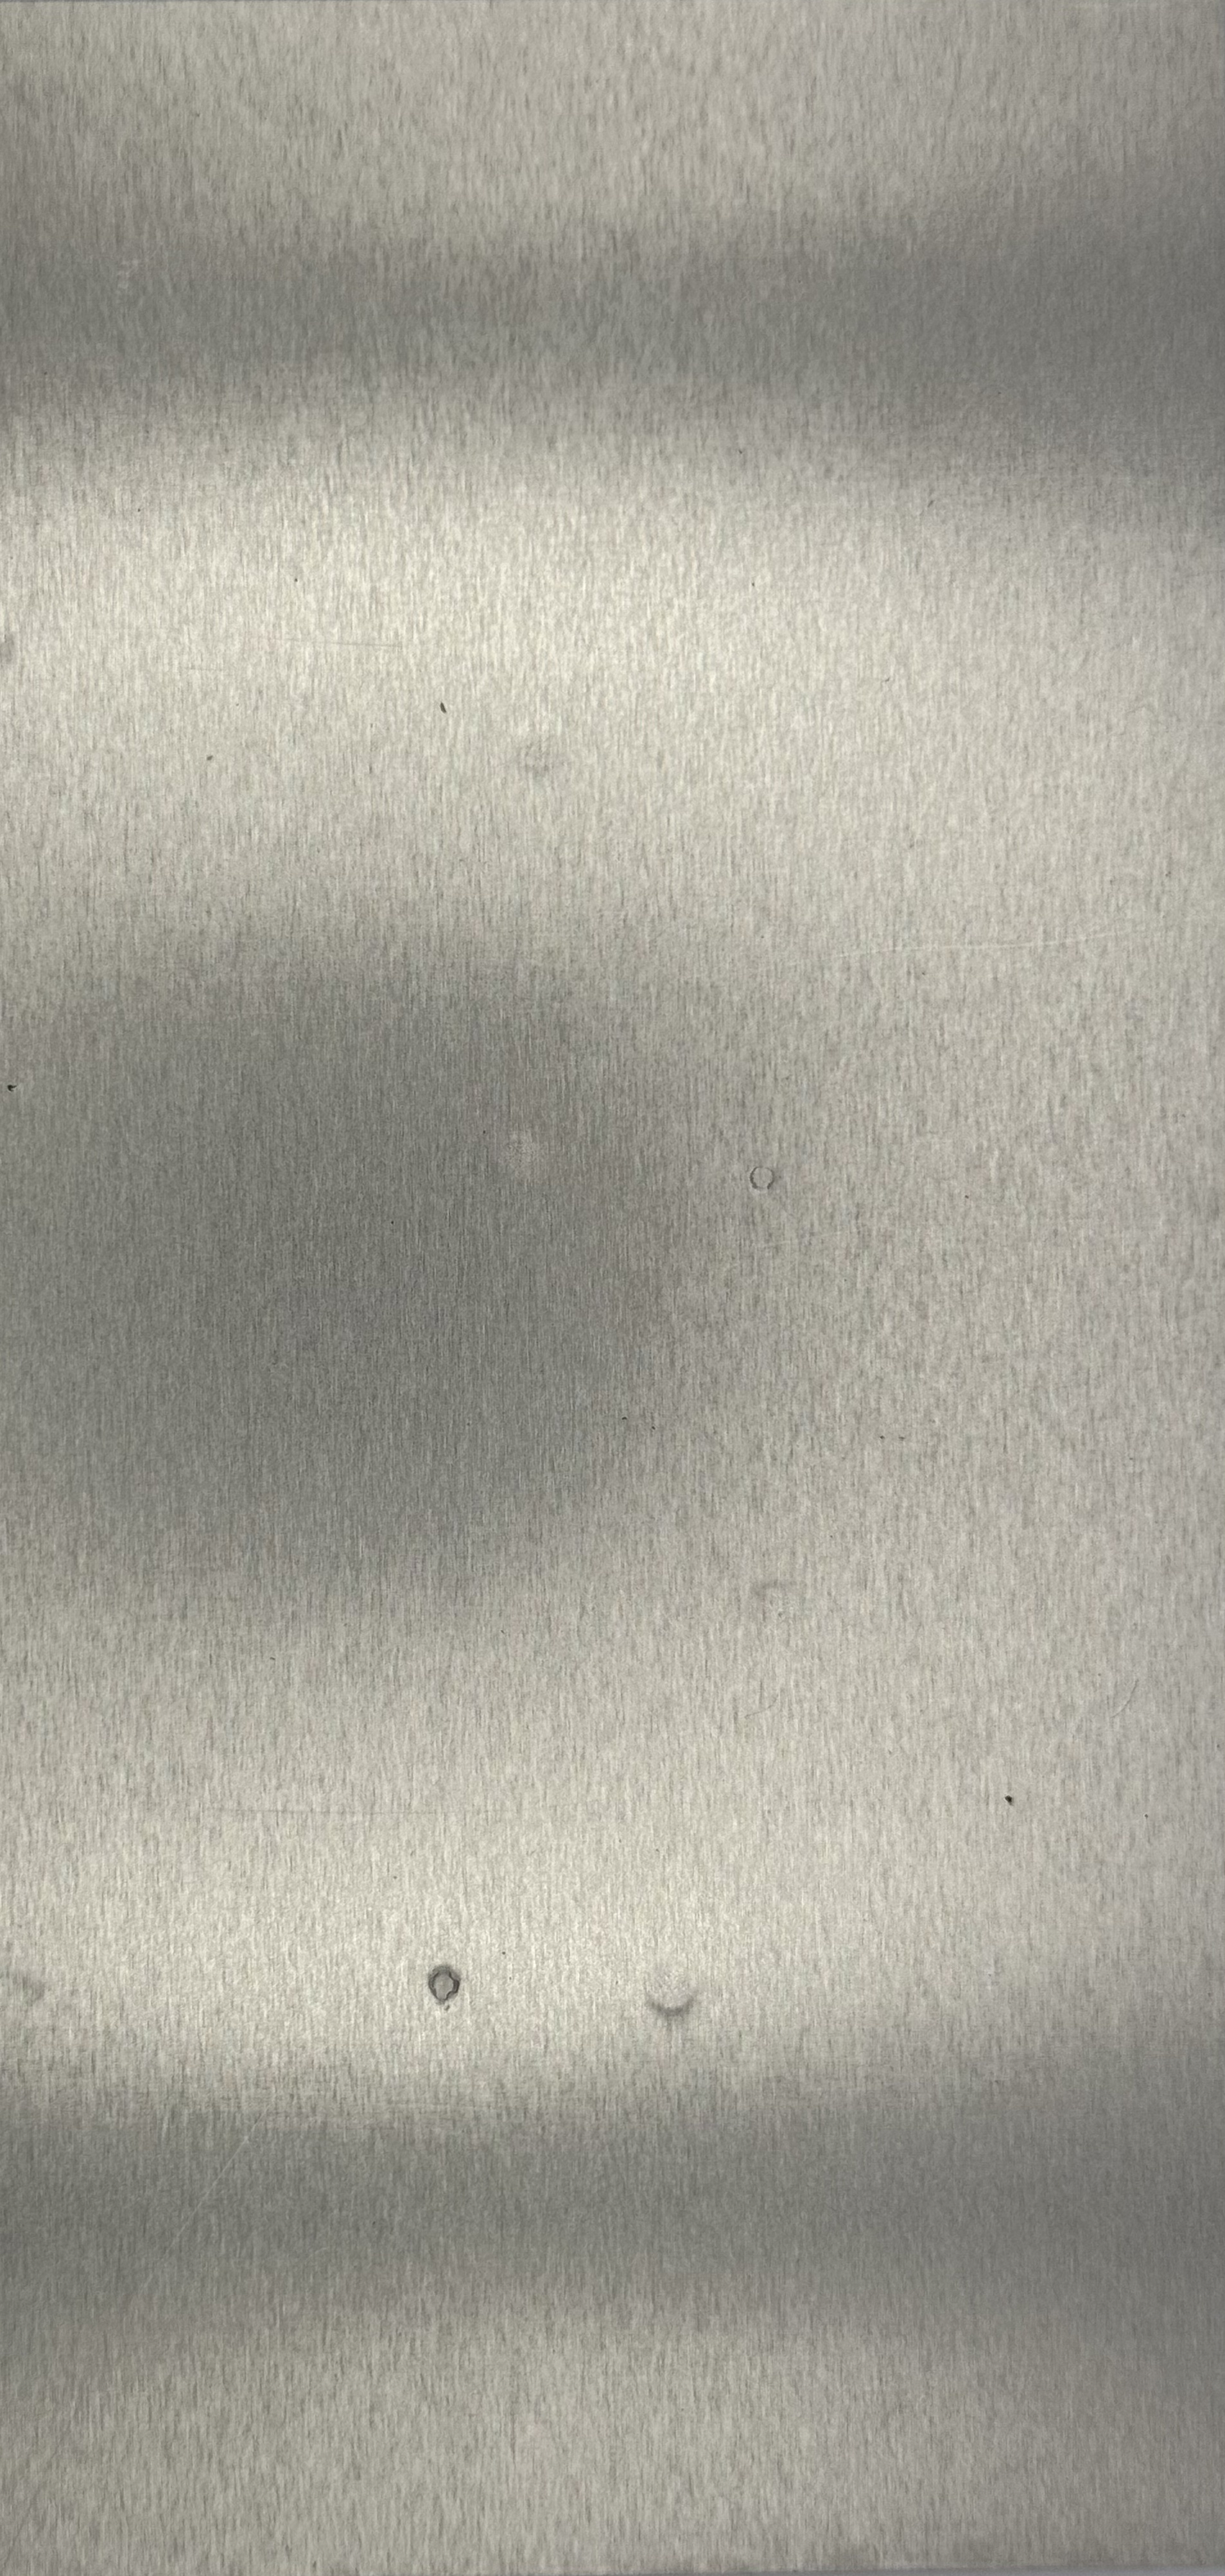Delle: (476, 690, 619, 810), (460, 1088, 596, 1209), (718, 1543, 828, 1649), (619, 1953, 729, 2029), (399, 1943, 486, 2032), (732, 1147, 791, 1206)
